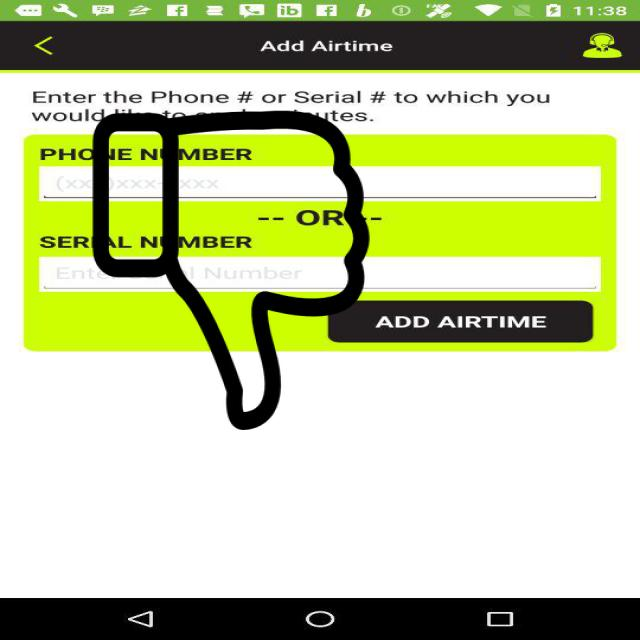obstruction: (89, 111, 373, 430)
